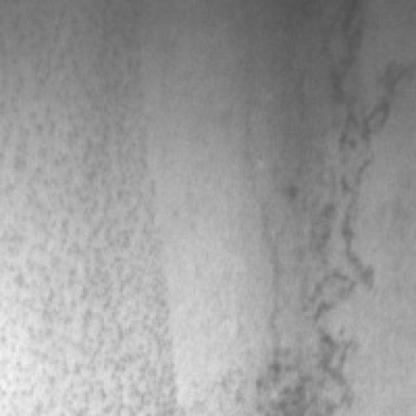pitted_surface: (235, 0, 408, 412), (4, 0, 173, 414)
